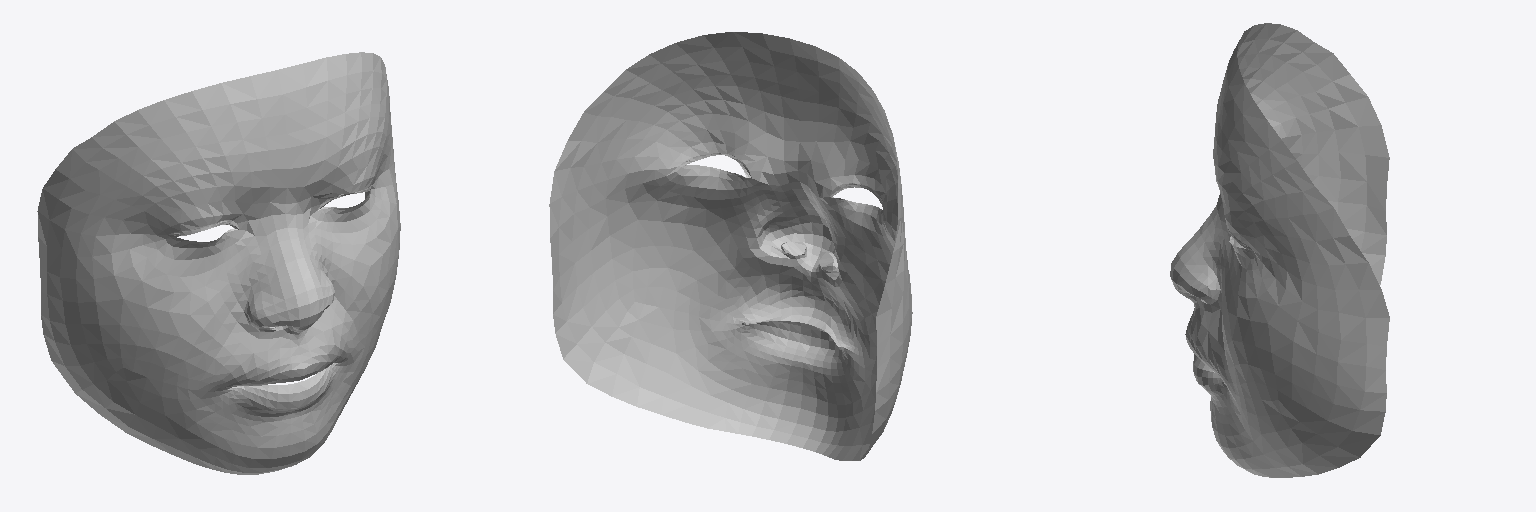
Rendered from noseSneer_L.obj.
The picture shows the model from 3 angles: view 1: azimuth 30°, elevation 25°; view 2: azimuth 150°, elevation 25°; view 3: azimuth 270°, elevation 25°; orthographic projection.
Parts seen in each view (by area): view 1: default; view 2: default; view 3: default.
Boxes of the visible parts, x1=… form: default: x1=37, y1=52, x2=400, y2=474; default: x1=549, y1=32, x2=912, y2=460; default: x1=1170, y1=23, x2=1389, y2=477.
Bounding box in the file's own units: 0.1624 × 0.1851 × 0.0914.